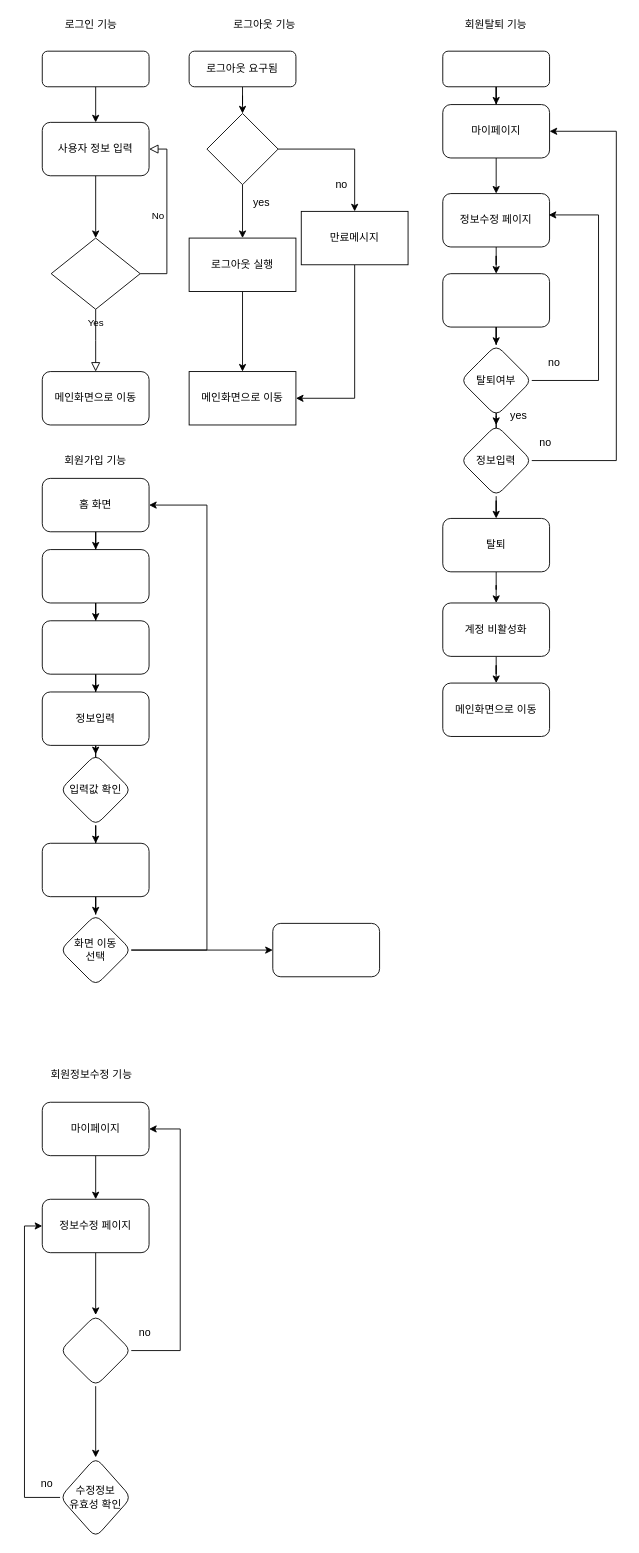
This 639x1553 diagram has some shape labels left out. Each missing label, with the box of its shape:
로그인: (442, 50, 550, 87)
로그인요구됨: (41, 50, 149, 87)
로그인페이지: (272, 922, 380, 977)
세션확인: (206, 113, 278, 185)
웰컴페이지: (41, 842, 149, 897)
정보수정 여부: (59, 1314, 131, 1386)
정보확인: (50, 237, 140, 309)
회원가입 버튼 클릭: (41, 549, 149, 603)
회원가입페이지: (41, 620, 149, 674)
회원탈퇴 버튼 클릭: (442, 273, 550, 327)
